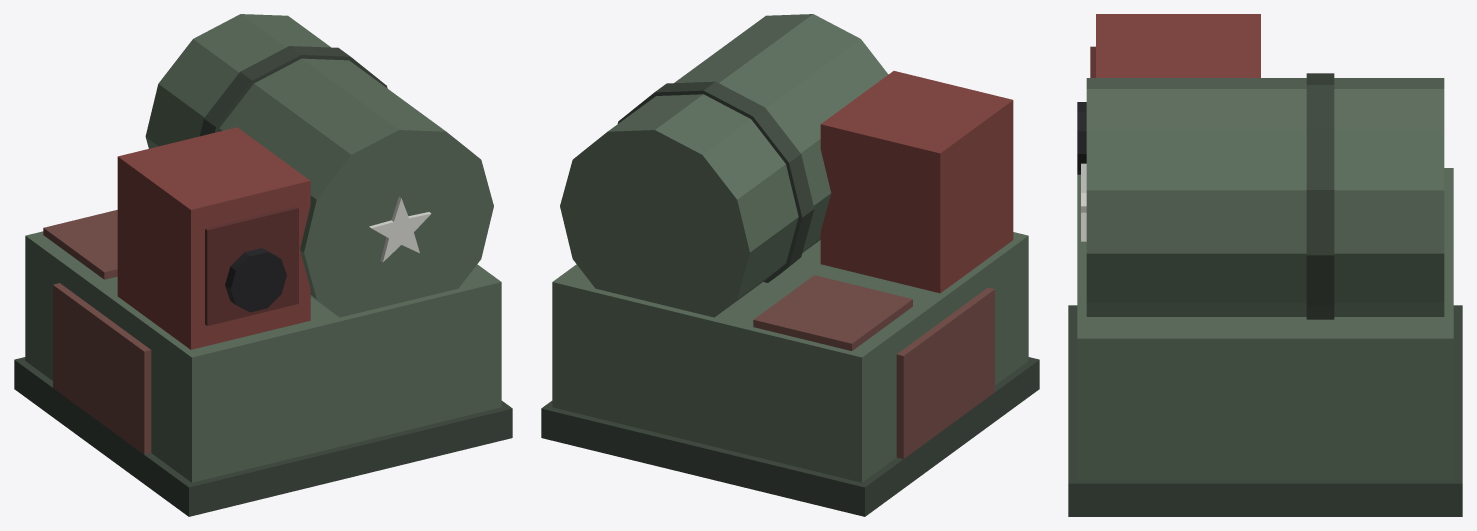
Rendered from oc_military_generator.obj.
3 views of the same model, side by side, from view 1: azimuth 30°, elevation 25°; view 2: azimuth 150°, elevation 25°; view 3: azimuth 270°, elevation 25° (orthographic). The views are drawn at different scales.
Visible parts, largest first — view 1: oc_military_generator_0, oc_military_generator_2, oc_military_generator_5, oc_military_generator_1, oc_military_generator_8, oc_military_generator_6, oc_military_generator_9, oc_military_generator_3, oc_military_generator_7, oc_military_generator_4; view 2: oc_military_generator_0, oc_military_generator_2, oc_military_generator_5, oc_military_generator_1, oc_military_generator_8, oc_military_generator_9, oc_military_generator_3; view 3: oc_military_generator_2, oc_military_generator_0, oc_military_generator_1, oc_military_generator_5, oc_military_generator_3, oc_military_generator_7, oc_military_generator_4.
Boxes of the visible parts, x1,y1,x2,y2 form: oc_military_generator_0: (25,231,501,482); oc_military_generator_2: (145,14,493,317); oc_military_generator_5: (117,127,310,349); oc_military_generator_1: (14,357,512,516); oc_military_generator_8: (53,283,151,454); oc_military_generator_6: (205,206,298,325); oc_military_generator_9: (43,210,117,279); oc_military_generator_3: (200,46,387,136); oc_military_generator_7: (225,248,286,312); oc_military_generator_4: (369,196,431,262); oc_military_generator_0: (552,232,1028,482); oc_military_generator_2: (560,14,888,317); oc_military_generator_5: (820,71,1013,293); oc_military_generator_1: (541,357,1039,516); oc_military_generator_8: (896,287,994,458); oc_military_generator_9: (753,275,912,350); oc_military_generator_3: (617,81,814,282); oc_military_generator_2: (1086,78,1444,316); oc_military_generator_0: (1077,168,1453,479); oc_military_generator_1: (1068,305,1462,516); oc_military_generator_5: (1096,14,1260,77); oc_military_generator_3: (1306,73,1334,319); oc_military_generator_7: (1077,102,1086,174); oc_military_generator_4: (1081,163,1086,241).
Bounding box in the file's own units: 0.92 × 0.9 × 0.86.
